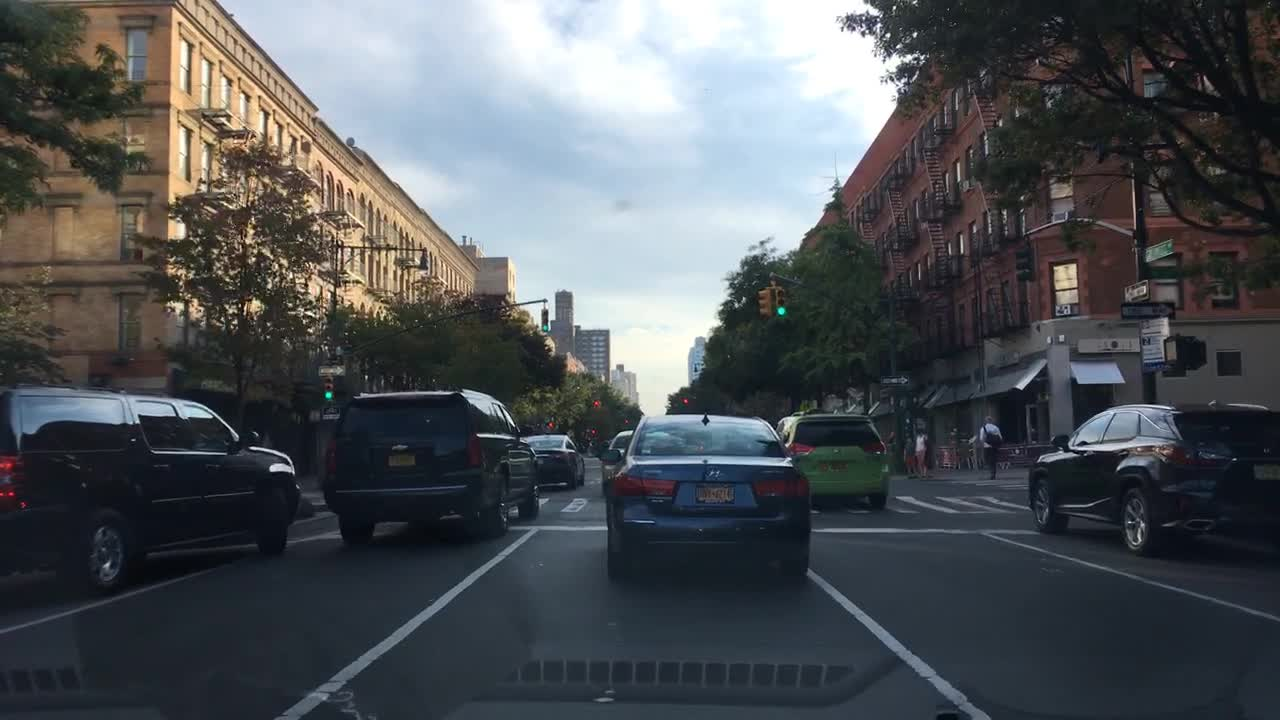car: (1, 381, 301, 598), (1023, 400, 1280, 557), (601, 414, 813, 581), (321, 386, 541, 544), (779, 406, 890, 511), (524, 431, 586, 486), (602, 429, 632, 491)
person: (978, 414, 1004, 481), (913, 429, 930, 477), (905, 432, 919, 475)
traffic light: (772, 285, 787, 316), (757, 286, 772, 315), (323, 378, 335, 398), (541, 308, 551, 332), (591, 396, 601, 409), (547, 420, 556, 432), (683, 394, 691, 406), (623, 415, 630, 425), (590, 424, 593, 437)
traffic sign: (1137, 334, 1167, 368), (1119, 300, 1175, 318), (1142, 238, 1171, 260), (1139, 321, 1170, 341), (316, 363, 346, 376), (882, 373, 910, 385), (1121, 281, 1150, 291), (319, 408, 341, 421)
